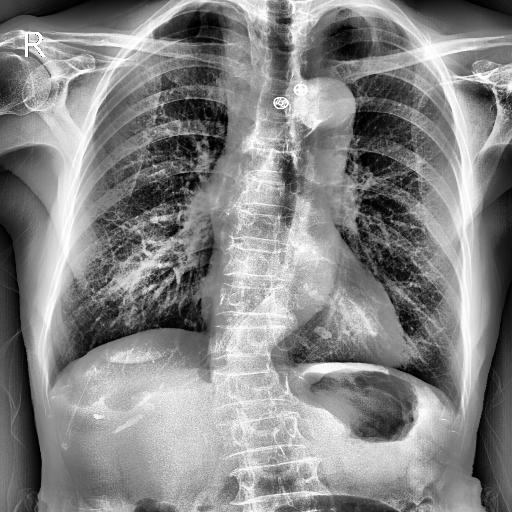0- Aortic enlargement: (208, 76, 354, 230), (296, 76, 358, 139), (295, 76, 356, 126)
